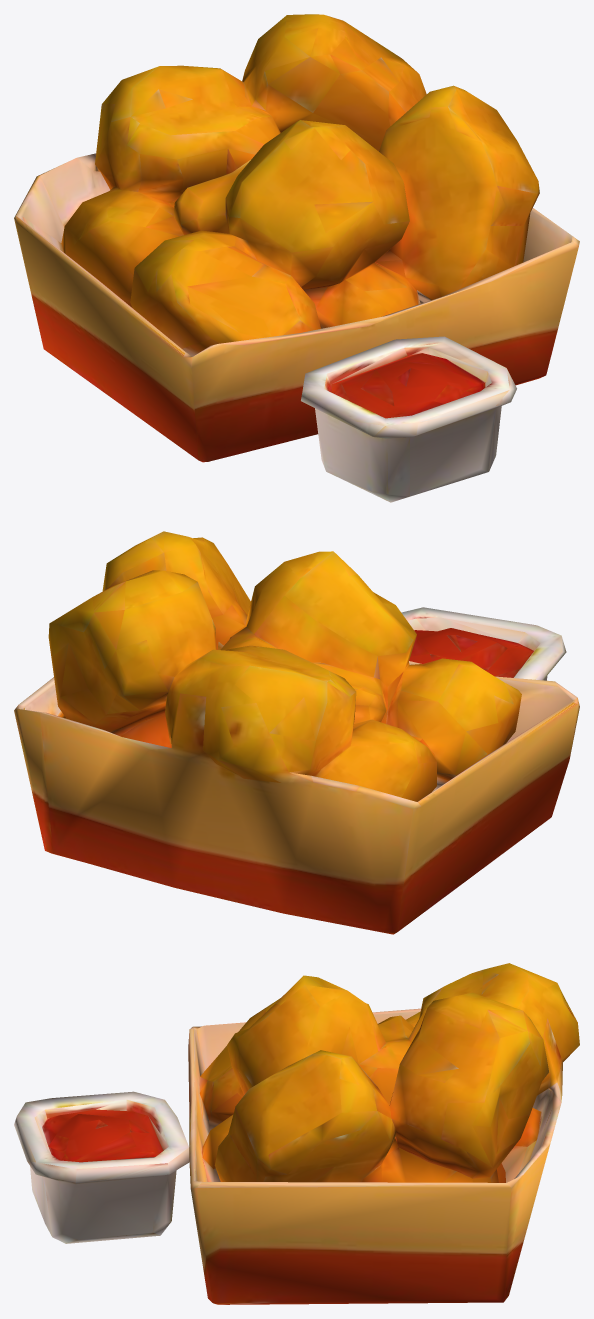
3 renders of one model, top to bottom at view 1: azimuth 30°, elevation 25°; view 2: azimuth 150°, elevation 25°; view 3: azimuth 270°, elevation 25°, orthographic. The views are drawn at different scales.
Visible parts, largest first — view 1: nuggets; view 2: nuggets; view 3: nuggets.
Part boxes in pixels (x1,y1,x2,y2): nuggets: (14,14,579,502); nuggets: (14,531,579,934); nuggets: (14,963,579,1304).
Size of the model in its own units: 0.1394 by 0.0936 by 0.1805.
1 material, 1 textured.
